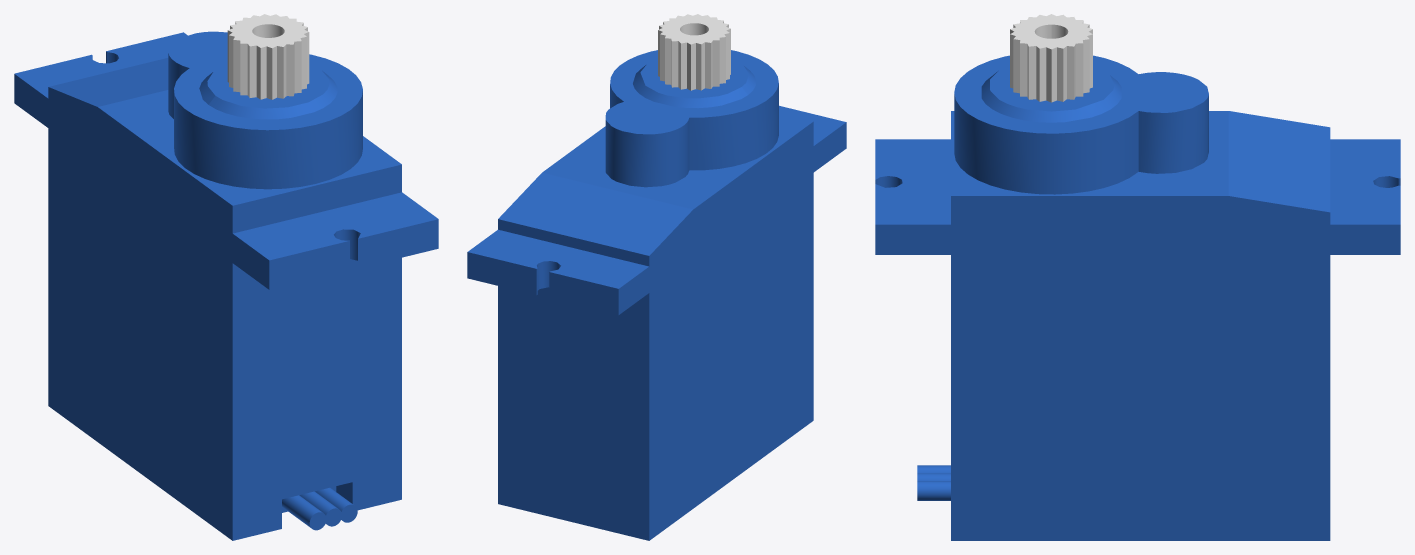
File: adafruit-1143-micro-servo.glb
3 views of the same model, side by side, from view 1: azimuth 30°, elevation 25°; view 2: azimuth 150°, elevation 25°; view 3: azimuth 270°, elevation 25° (orthographic). The views are drawn at different scales.
Visible parts, largest first — view 1: body, spline; view 2: body, spline; view 3: body, spline.
Boxes of the visible parts, x1=… form: body: x1=14, y1=31, x2=438, y2=540; spline: x1=227, y1=14, x2=309, y2=99; body: x1=467, y1=50, x2=846, y2=540; spline: x1=658, y1=14, x2=730, y2=90; body: x1=875, y1=55, x2=1400, y2=540; spline: x1=1010, y1=14, x2=1092, y2=102.
Size of the model in its own units: 12 by 30.68 by 31.3.
